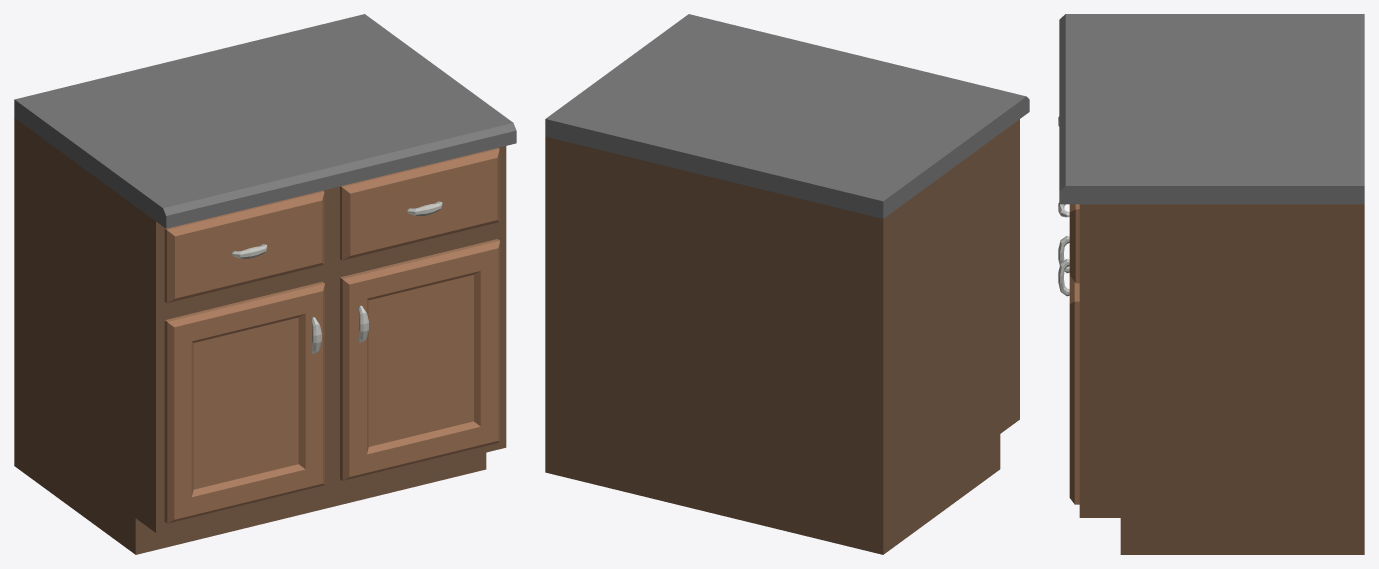
The model's file is Structure_Bathroom_Cabinet_Full.obj.
3 views of the same model, side by side, from view 1: azimuth 30°, elevation 25°; view 2: azimuth 150°, elevation 25°; view 3: azimuth 270°, elevation 25° (orthographic). The views are drawn at different scales.
Parts seen in each view (by area): view 1: object3, object6, object9, object8, object10, object1; view 2: object3, object6; view 3: object3, object6, object8, object1.
Part boxes in pixels (box(x1,y1,x2,y2)): object3: box(14, 118, 506, 554); object6: box(14, 14, 516, 228); object9: box(164, 281, 324, 523); object8: box(340, 239, 500, 480); object10: box(164, 190, 324, 302); object1: box(340, 148, 499, 260); object3: box(545, 119, 1019, 554); object6: box(545, 14, 1029, 218); object3: box(1079, 204, 1364, 554); object6: box(1059, 14, 1364, 204); object8: box(1069, 275, 1079, 504); object1: box(1069, 204, 1079, 283).
Bounding box in the file's own units: 1 × 1 × 0.7531.
